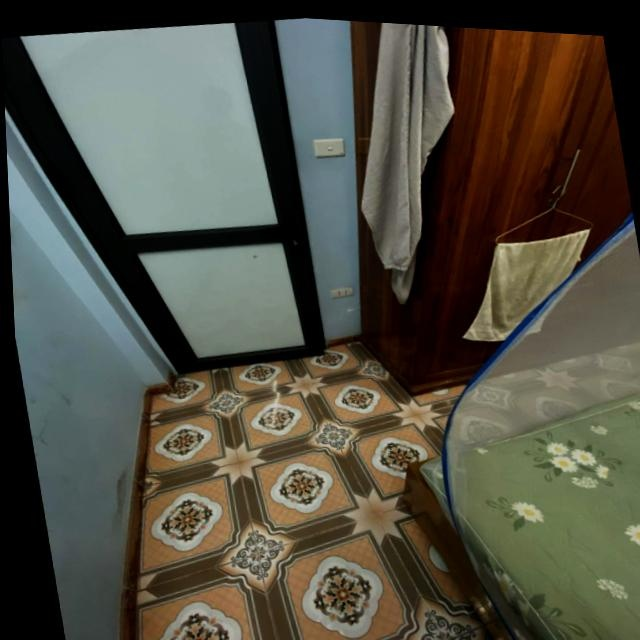outlet: (329, 284, 354, 300)
